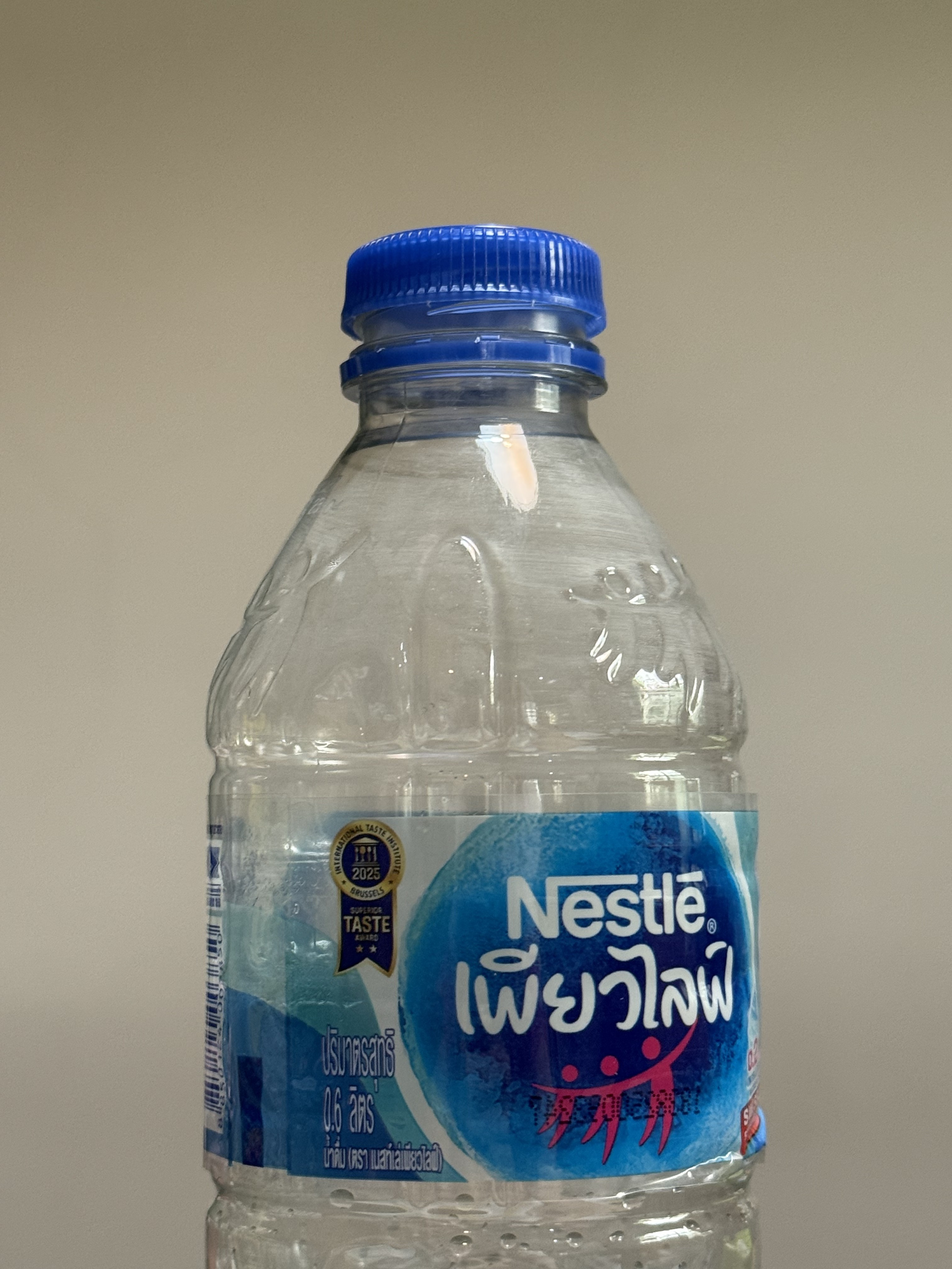half_cap: (328, 215, 616, 401)
